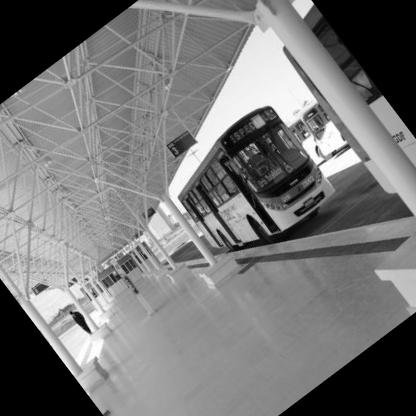bus: (141, 85, 365, 305)
